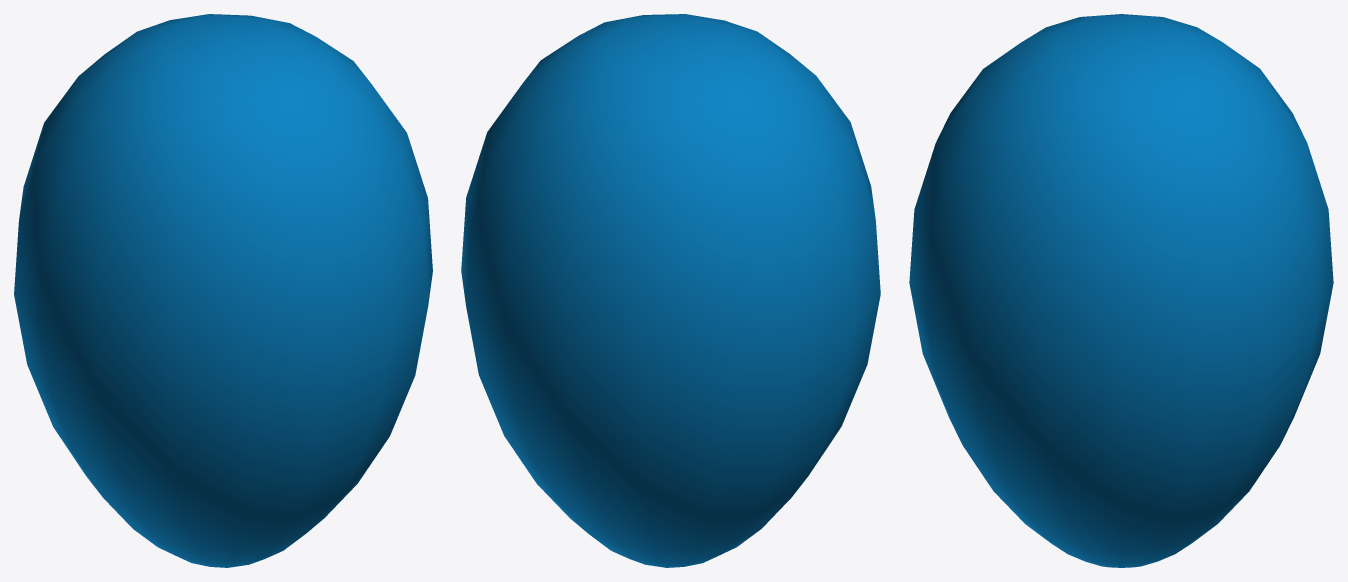
Rendered from Blow_Balloon_Blue.FBX.
3 views of the same model, side by side, from view 1: azimuth 30°, elevation 25°; view 2: azimuth 150°, elevation 25°; view 3: azimuth 270°, elevation 25° (orthographic).
Visible parts, largest first — view 1: Blow_Balloon_Blue; view 2: Blow_Balloon_Blue; view 3: Blow_Balloon_Blue.
Boxes of the visible parts, left/top/right/bottom form: Blow_Balloon_Blue: left=14, top=14, right=432, bottom=567; Blow_Balloon_Blue: left=461, top=14, right=880, bottom=567; Blow_Balloon_Blue: left=909, top=14, right=1333, bottom=567.
Bounding box in the file's own units: 7.8 × 10.68 × 7.8.
